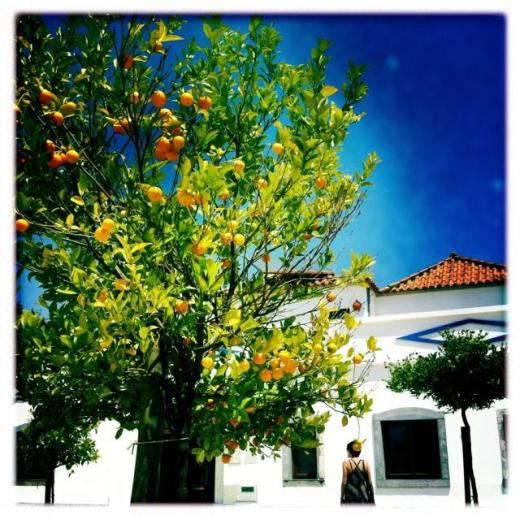Grape: (178, 183, 206, 216), (151, 136, 167, 162), (146, 88, 168, 105), (60, 144, 80, 162), (254, 170, 272, 189), (145, 189, 165, 205), (227, 156, 246, 172), (196, 91, 211, 111), (165, 137, 183, 153), (178, 92, 192, 110), (46, 139, 65, 151), (16, 218, 30, 234), (272, 142, 286, 157), (283, 360, 297, 374), (168, 151, 180, 167), (37, 87, 49, 102), (54, 151, 62, 170), (53, 108, 62, 124), (64, 102, 72, 110)
